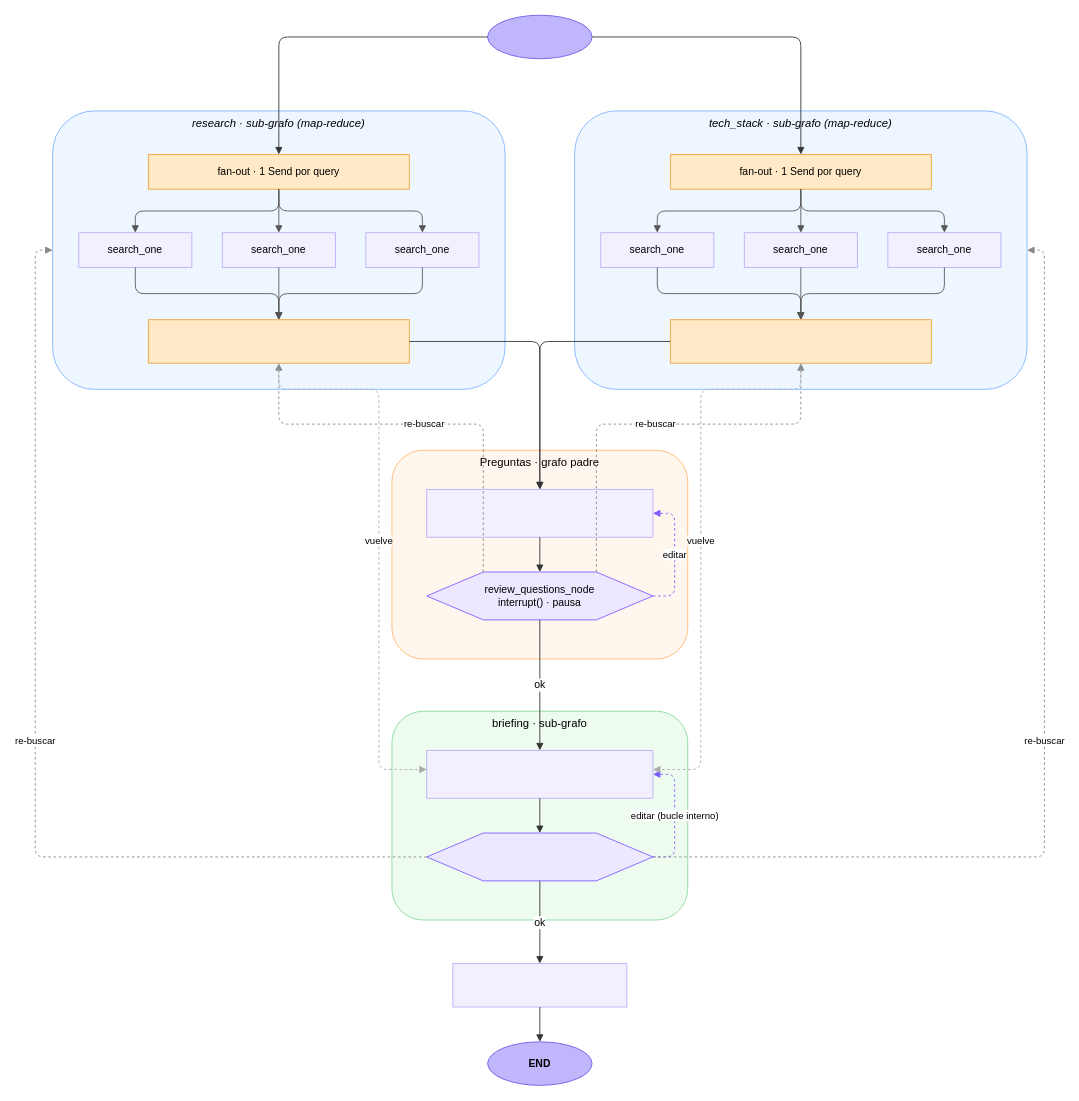
Some shapes in this 1079 by 1101 pixel diagram are drawn without their labels. The centre of each missing label's shape, as x and y in pixels:
"generate_briefing (genera / edita)" goes at [539,774].
"generate_questions_node (genera / edita)" goes at [539,513].
"review_briefing interrupt() · pausa" goes at [539,856].
"START" goes at [539,36].
"synthesize · extrae el stack" goes at [800,341].
"synthesize · resume noticias" goes at [278,341].
"write_file_node (guarda el .md)" goes at [539,985].
